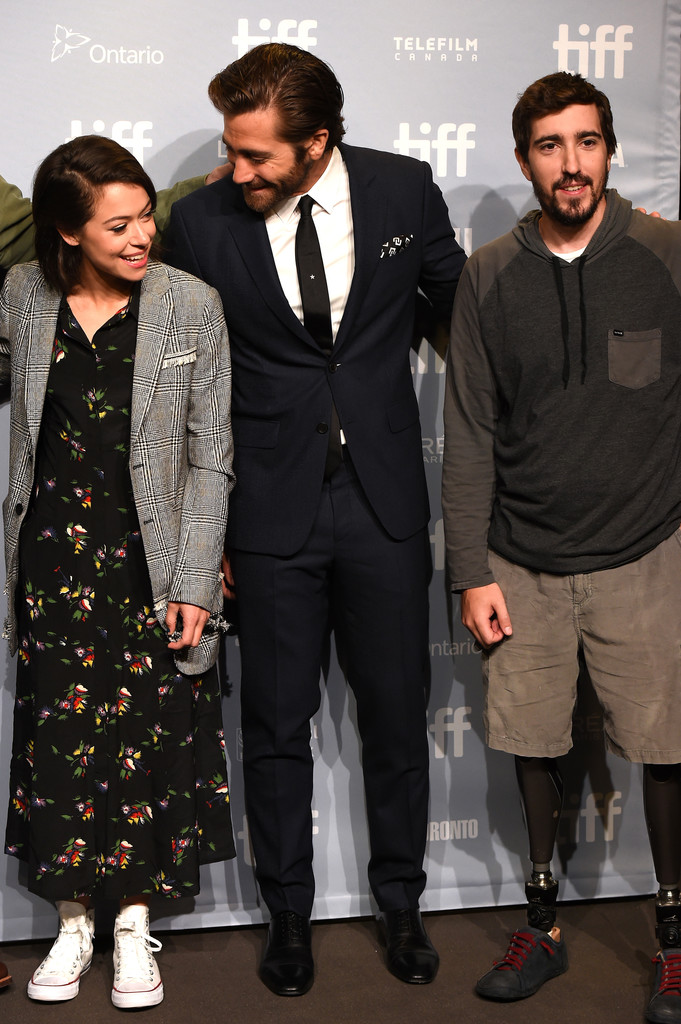Person: (446, 79, 681, 1002), (186, 52, 426, 955), (6, 139, 230, 1012)
